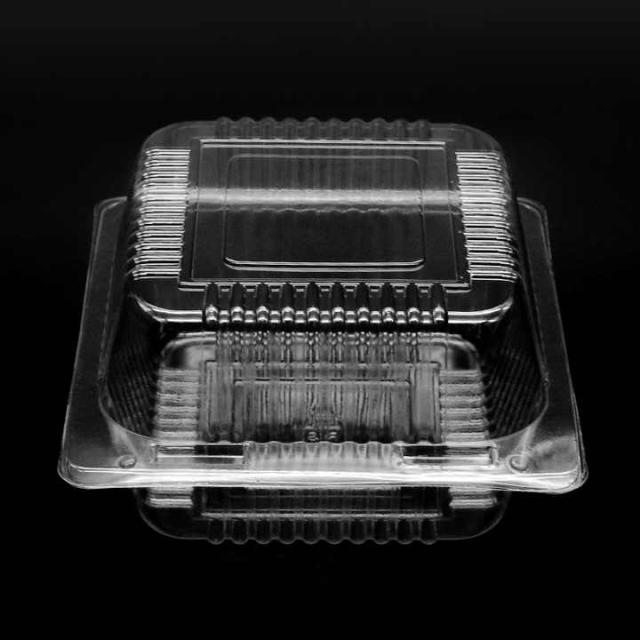plastic_box: (72, 114, 581, 582)
